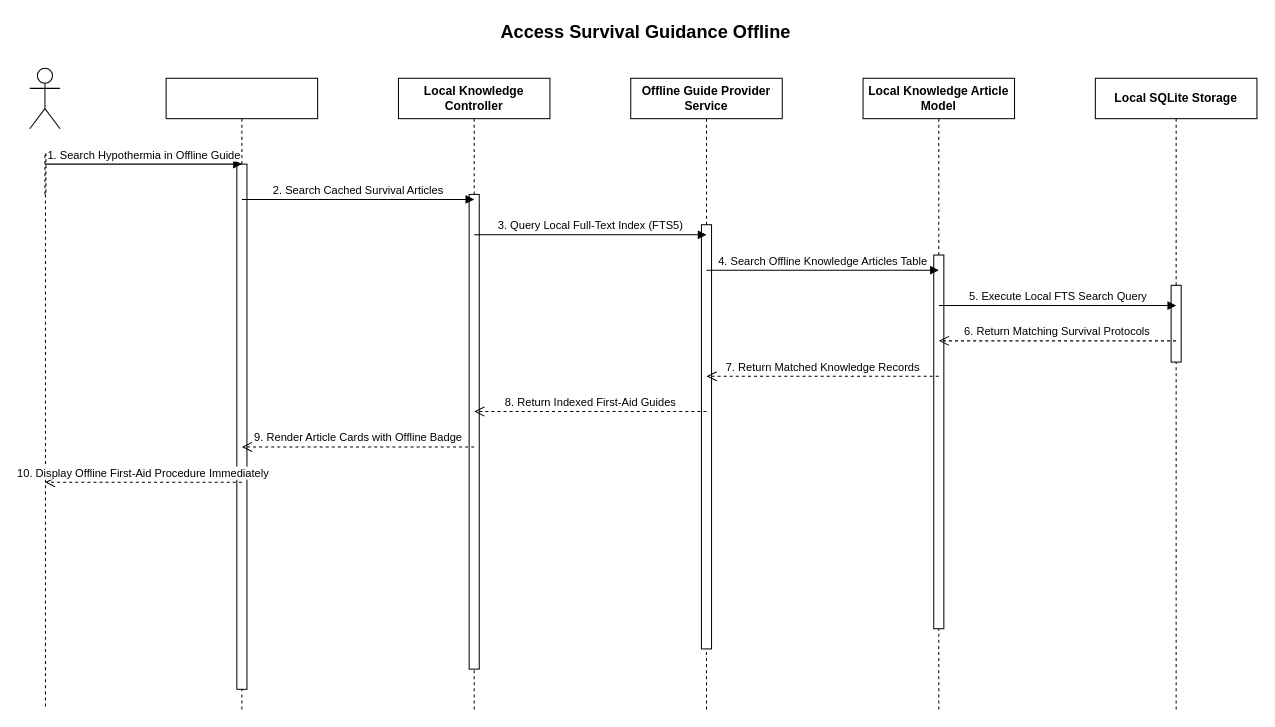
Image size: 1275x727. Some labels were removed from this diagram. Here are the shapes that lost their labels. From the top down, the box of each, then its label:
(29, 67, 60, 129): Camper
(165, 77, 318, 710): Offline Survival Handbook View
